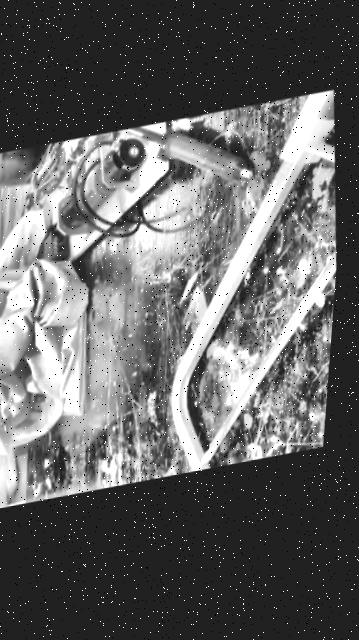pot: (0, 143, 57, 197)
